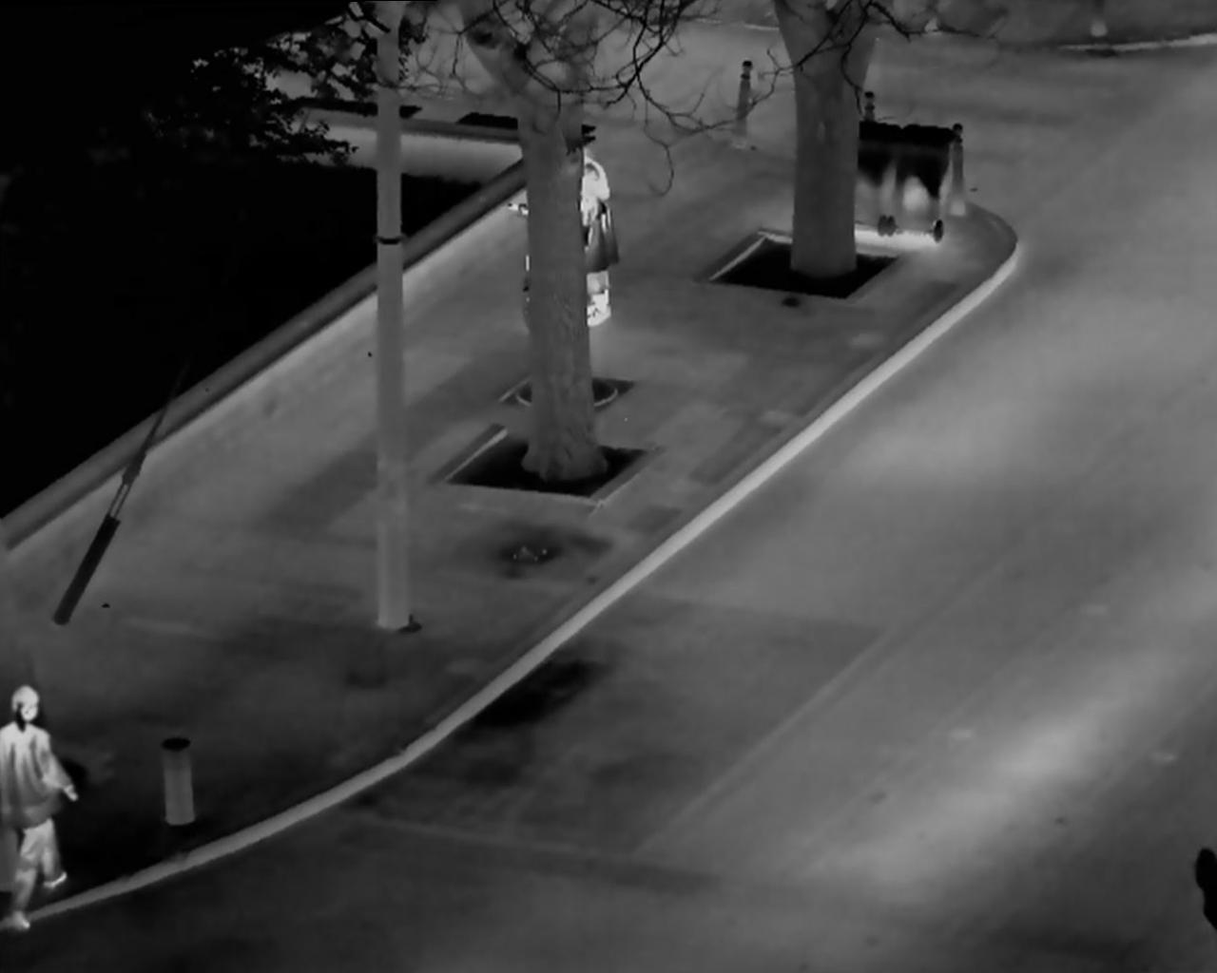person: (7, 676, 77, 934), (571, 135, 626, 318)
